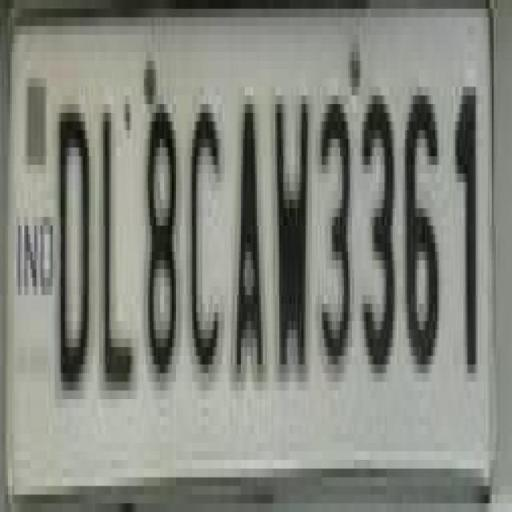number plate: (4, 0, 482, 503)
